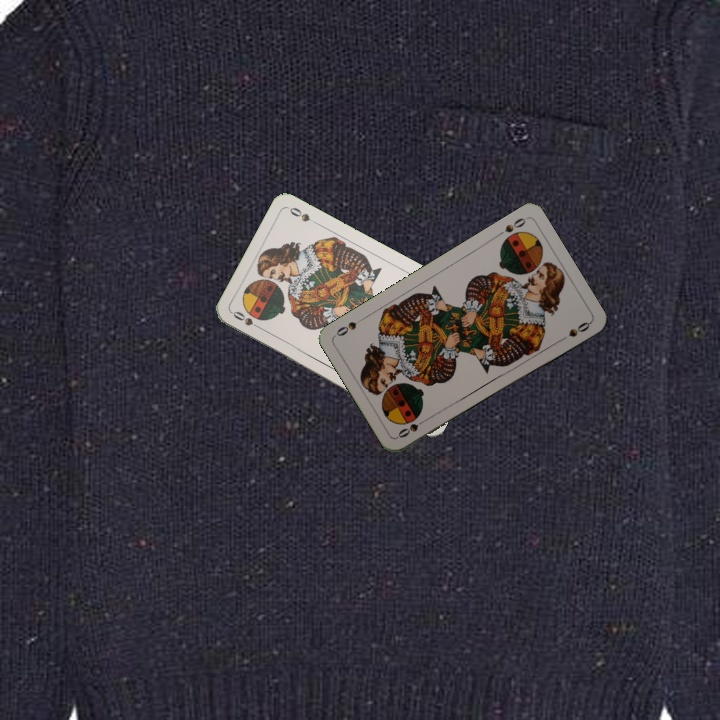SO: (394, 414, 431, 441), (229, 307, 266, 333), (492, 214, 528, 240)
